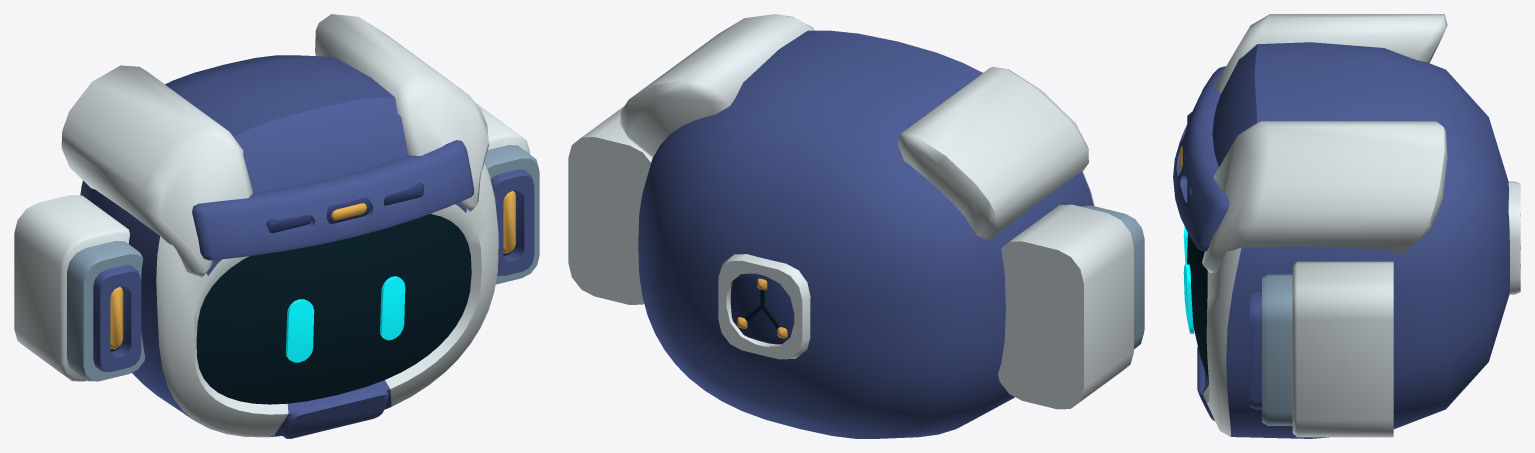
Rendered from copilot_architect_v01.glb.
3 renders of one model, left to right at view 1: azimuth 30°, elevation 25°; view 2: azimuth 150°, elevation 25°; view 3: azimuth 270°, elevation 25°, orthographic. The views are drawn at different scales.
Parts seen in each view (by area): view 1: architect_model; view 2: architect_model; view 3: architect_model.
Part boxes in pixels (left/top/right/bottom): architect_model: left=14, top=14, right=539, bottom=438; architect_model: left=568, top=14, right=1144, bottom=438; architect_model: left=1173, top=14, right=1520, bottom=438.
Bounding box in the file's own units: 3.35 × 2.14 × 2.03.
2 materials, 2 textured.
